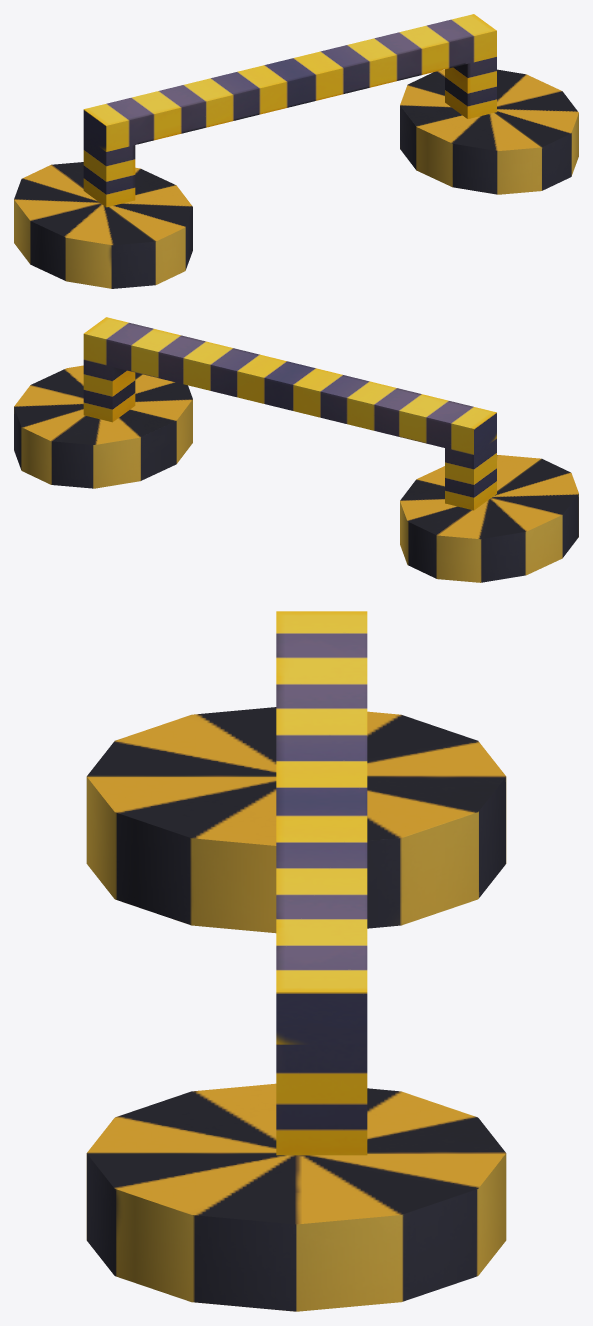
The model's file is zhangaiwu.FBX.
3 renders of one model, top to bottom at view 1: azimuth 30°, elevation 25°; view 2: azimuth 150°, elevation 25°; view 3: azimuth 270°, elevation 25°, orthographic. The views are drawn at different scales.
Visible parts, largest first — view 1: Box10; view 2: Box10; view 3: Box10.
Part boxes in pixels (<box>): Box10: <box>14,14,578,288</box>; Box10: <box>14,317,578,582</box>; Box10: <box>86,611,506,1311</box>.
Bounding box in the file's own units: 37.32 × 12.74 × 8.39.
1 material, 1 textured.
